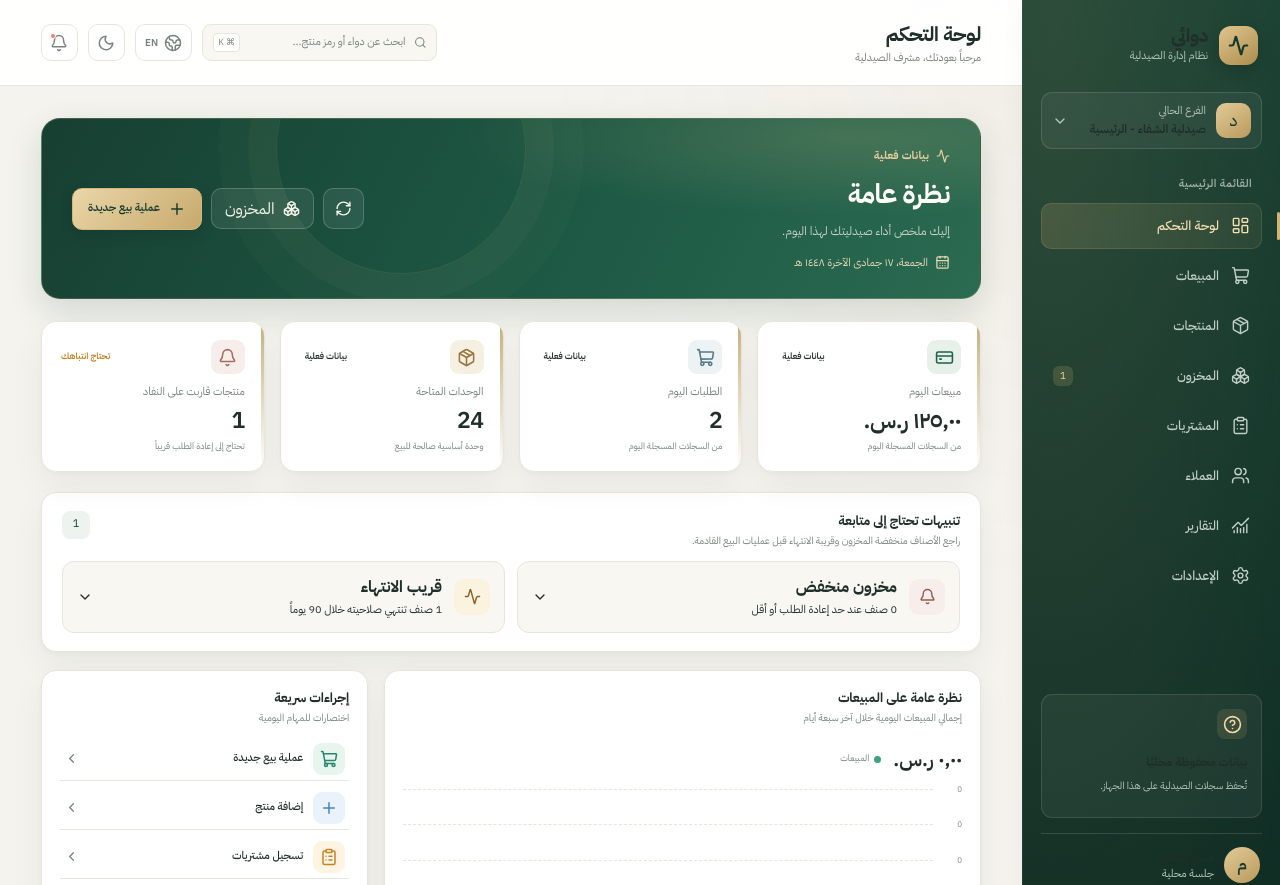
Test: main application shell › toggles the color theme and opens a selected section
Click the button named "تبديل الوضع الداكن والفاتح" at (106, 42), box [88, 24, 125, 61]
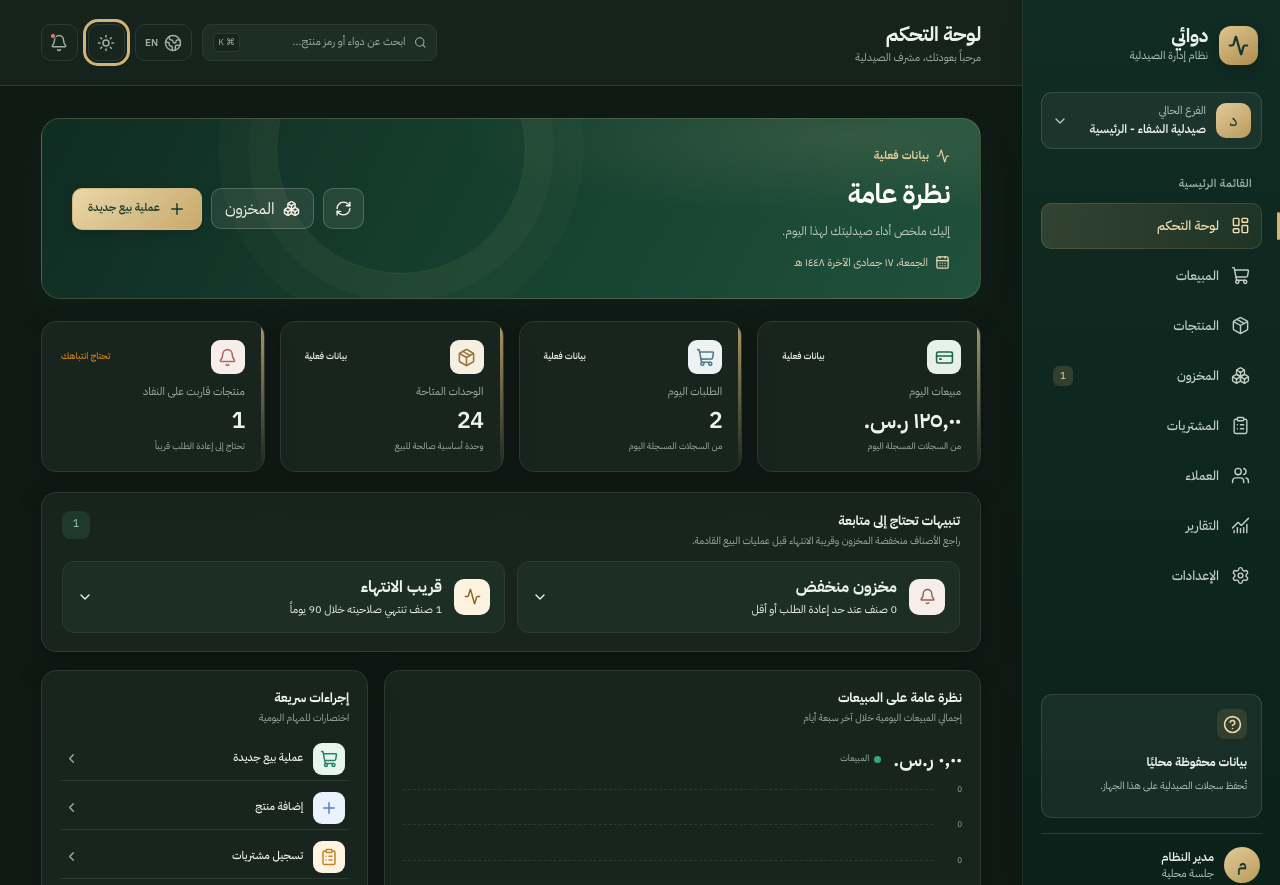
Click the button "المخزون 1" at (1152, 376), box [1041, 352, 1262, 398]
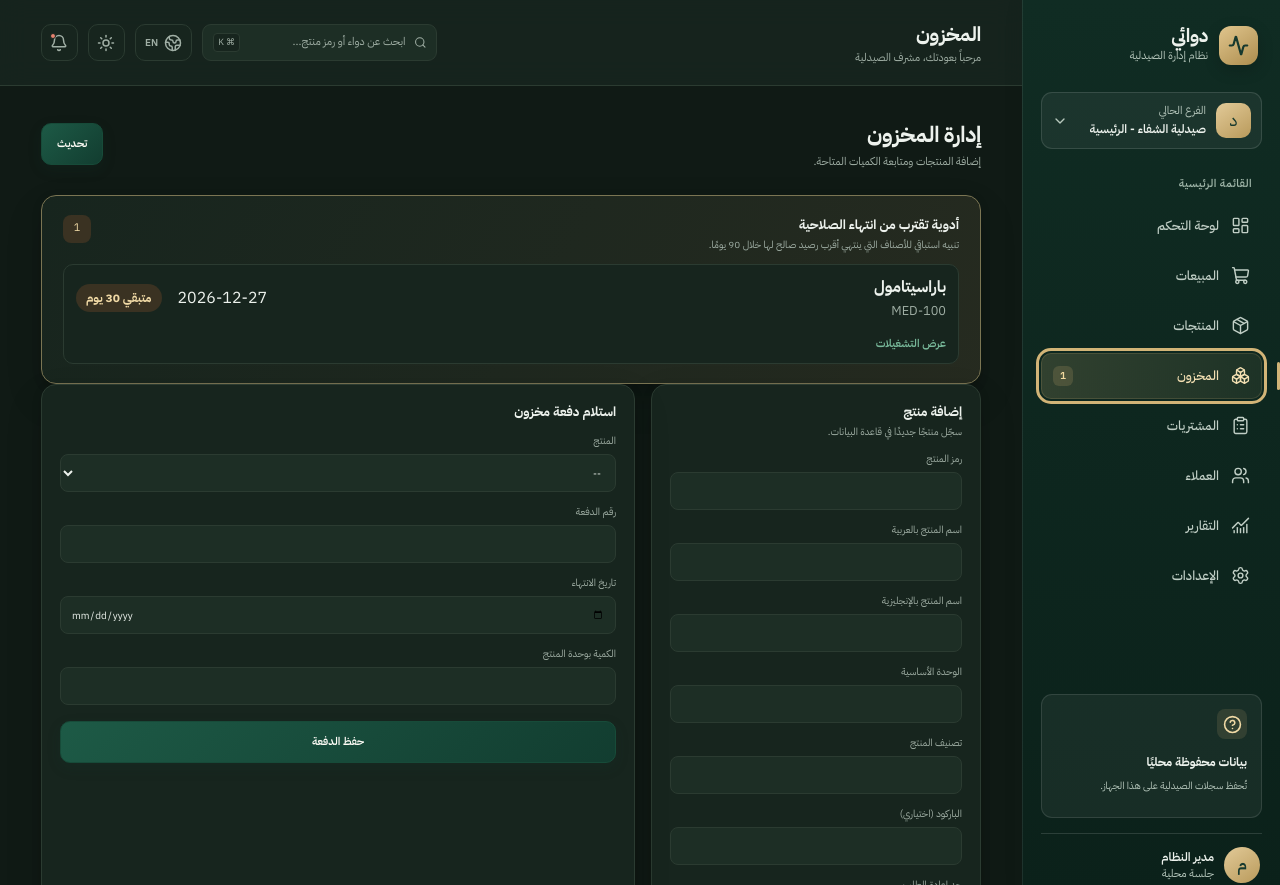
Expected: the heading "المخزون" is shown, [916, 19, 981, 49]
Expected: the heading "أدوية تقترب من انتهاء الصلاحية" is shown, [799, 214, 959, 234]
